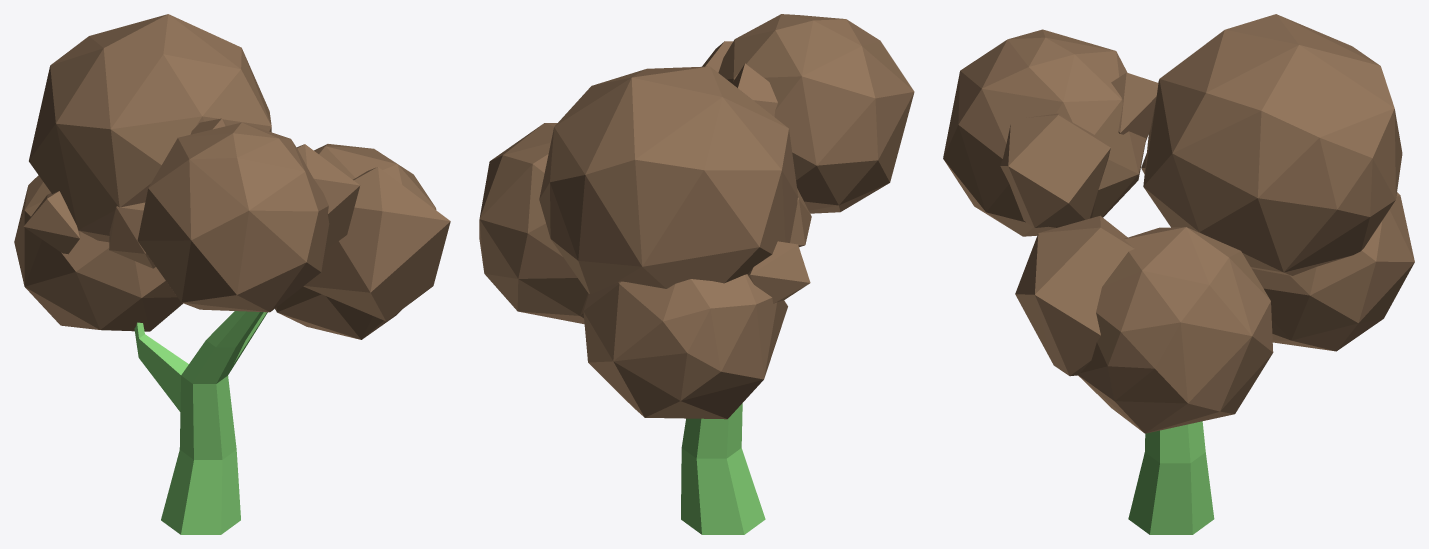
File: bubble2.fbx
The picture shows the model from 3 angles, left to right: view 1: azimuth 30°, elevation 25°; view 2: azimuth 150°, elevation 25°; view 3: azimuth 270°, elevation 25°; orthographic projection. The views are drawn at different scales.
Visible parts, largest first — view 1: bubble 2; view 2: bubble 2; view 3: bubble 2.
Part boxes in pixels (left/top/right/bottom): bubble 2: left=14, top=14, right=450, bottom=534; bubble 2: left=479, top=14, right=914, bottom=534; bubble 2: left=943, top=14, right=1414, bottom=534.
Size of the model in its own units: 608 by 744 by 652.
